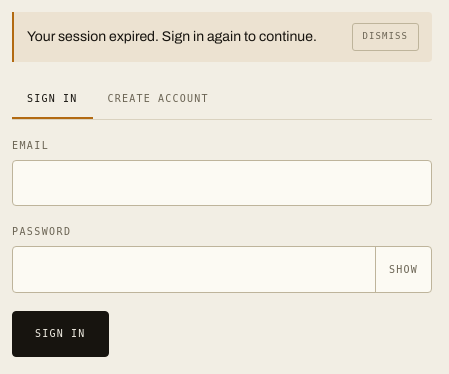
AccountPanel after a session expires › explains the drop-out and lets the visitor dismiss it
The image size is (449, 374).
Expected: the message shows "expired", 27,29 -> 317,44
Click the button "DISMISS": x=385, y=37 352,23 -> 419,50
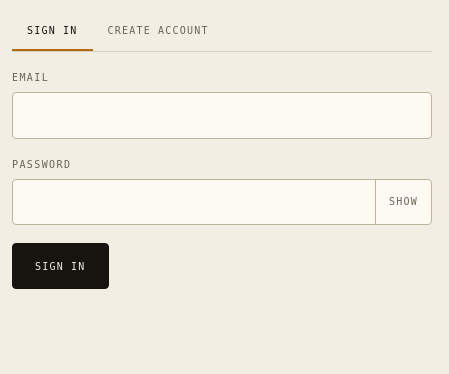
Expected: the message "Your session expired. Sign in again to continue. DISMISS" is gone
